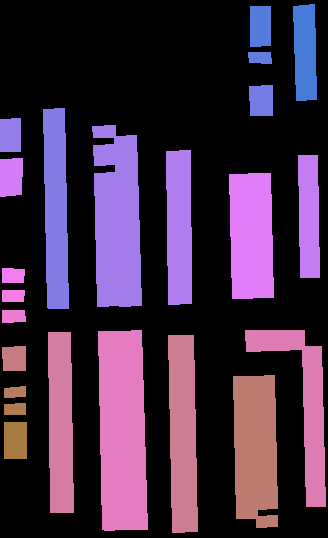parkingspot: (168, 335, 197, 532), (119, 330, 147, 529), (98, 331, 125, 530), (43, 108, 68, 308), (114, 135, 141, 306), (48, 332, 73, 512), (166, 150, 191, 304), (302, 346, 325, 506), (233, 376, 257, 518), (94, 172, 119, 306), (253, 375, 277, 509), (248, 173, 273, 297), (229, 174, 252, 298), (298, 155, 319, 277), (293, 4, 316, 100), (245, 330, 304, 351), (0, 158, 22, 196), (250, 6, 270, 46), (4, 422, 26, 458), (249, 85, 272, 115), (0, 118, 20, 151), (2, 346, 25, 370), (93, 144, 116, 165), (2, 268, 24, 282), (92, 125, 115, 137), (2, 310, 25, 322), (248, 52, 271, 63), (256, 515, 277, 527), (2, 290, 24, 301), (4, 386, 25, 397), (4, 403, 25, 414)
